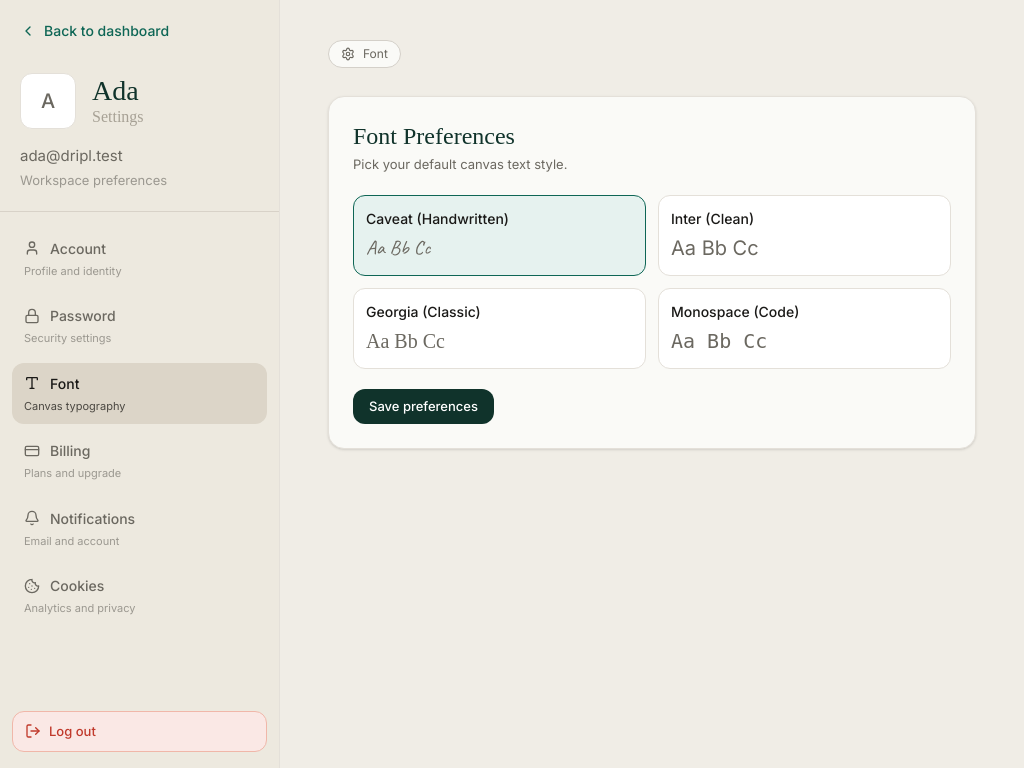
/settings — font preferences › writes the chosen font to the key the canvas reads
Click the button "Georgia (Classic) Aa Bb Cc" at coordinates (423, 311), box [353,288,646,368]
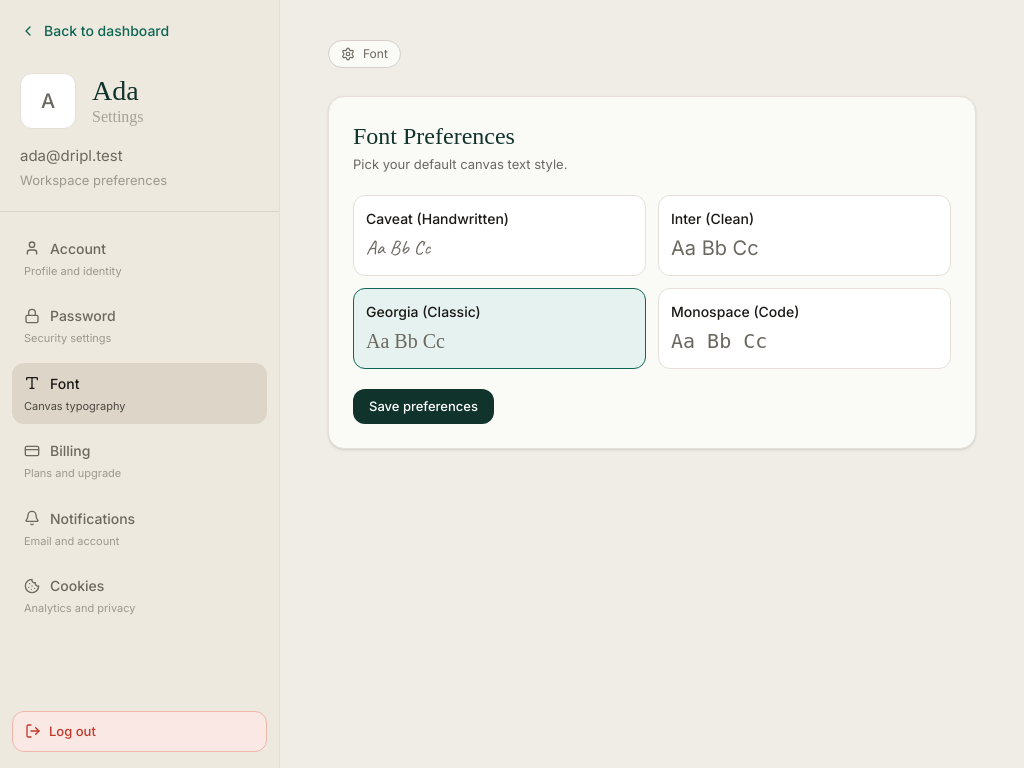
Click the button "Save preferences" at coordinates (424, 406), box [353,388,494,424]
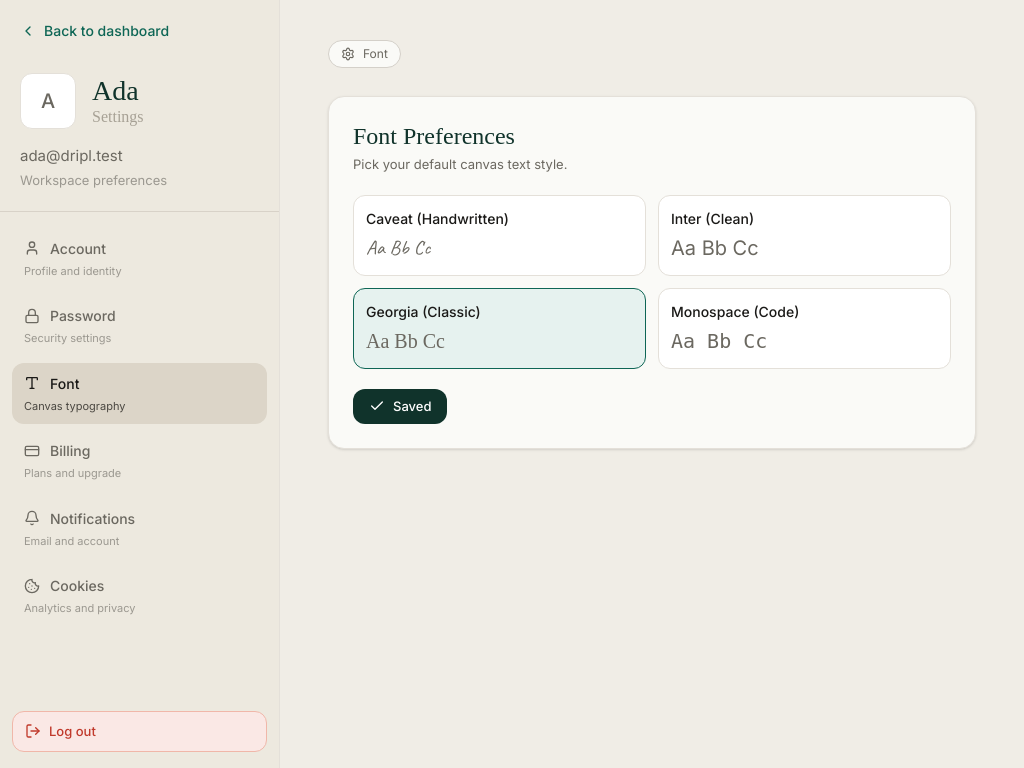
Now the button "Saved" is shown, box [353,388,448,424]
